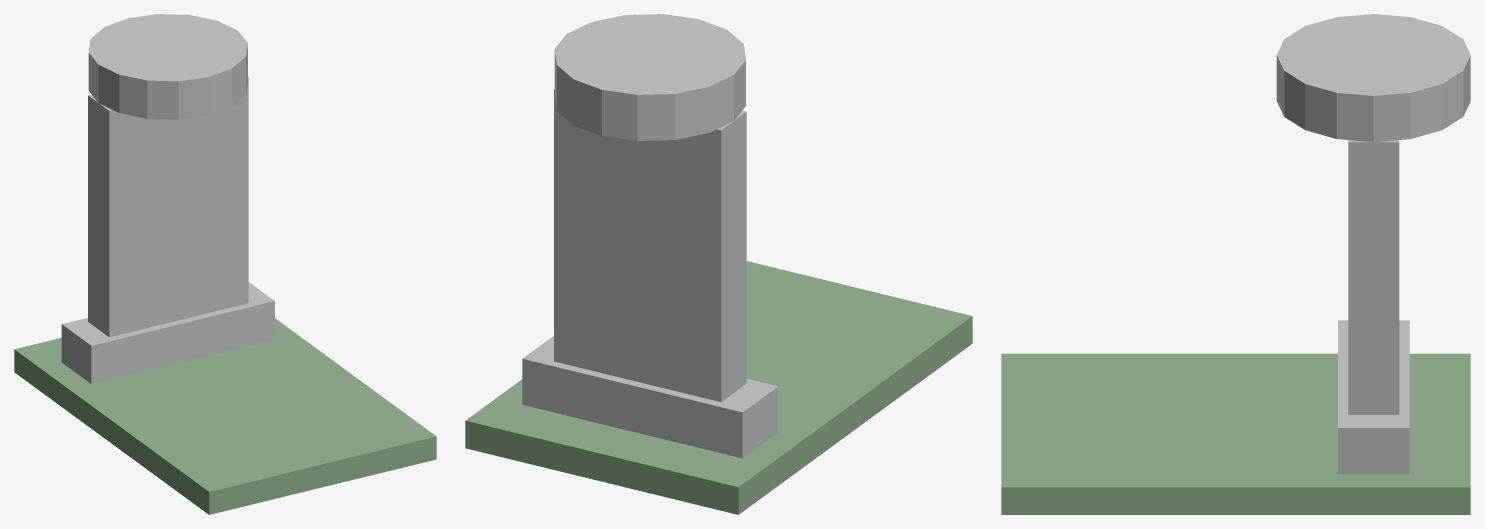
File: grave.glb
The picture shows the model from 3 angles, left to right: view 1: azimuth 30°, elevation 25°; view 2: azimuth 150°, elevation 25°; view 3: azimuth 270°, elevation 25°; orthographic projection. The views are drawn at different scales.
Visible parts, largest first — view 1: grave; view 2: grave; view 3: grave.
Boxes of the visible parts, bbox=[...] form: grave: bbox=[14, 14, 436, 514]; grave: bbox=[465, 14, 972, 514]; grave: bbox=[1001, 14, 1470, 514].
Size of the model in its own units: 0.62 by 0.85 by 0.92.
